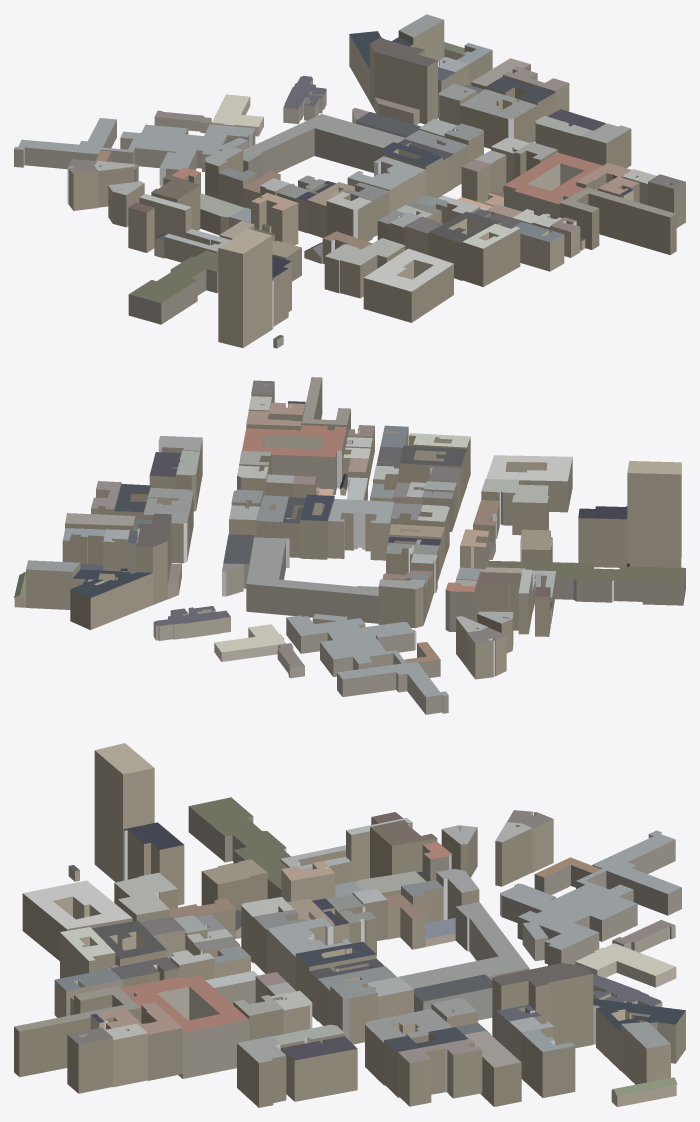
3 views of the same model, one above another, from view 1: azimuth 30°, elevation 25°; view 2: azimuth 150°, elevation 25°; view 3: azimuth 270°, elevation 25° (orthographic). The views are drawn at different scales.
Parts seen in each view (by area): view 1: tuile; view 2: tuile; view 3: tuile.
Boxes of the visible parts, left/top/right/bottom form: tuile: left=14, top=14, right=685, bottom=348; tuile: left=14, top=377, right=685, bottom=714; tuile: left=14, top=743, right=685, bottom=1107.
Bounding box in the file's own units: 302 × 52.95 × 282.
